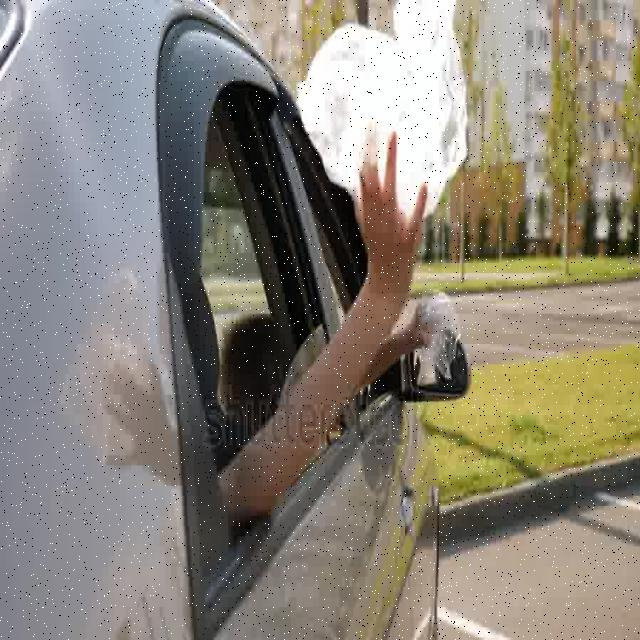garbage_dumping: (282, 0, 471, 212), (421, 278, 459, 386)
